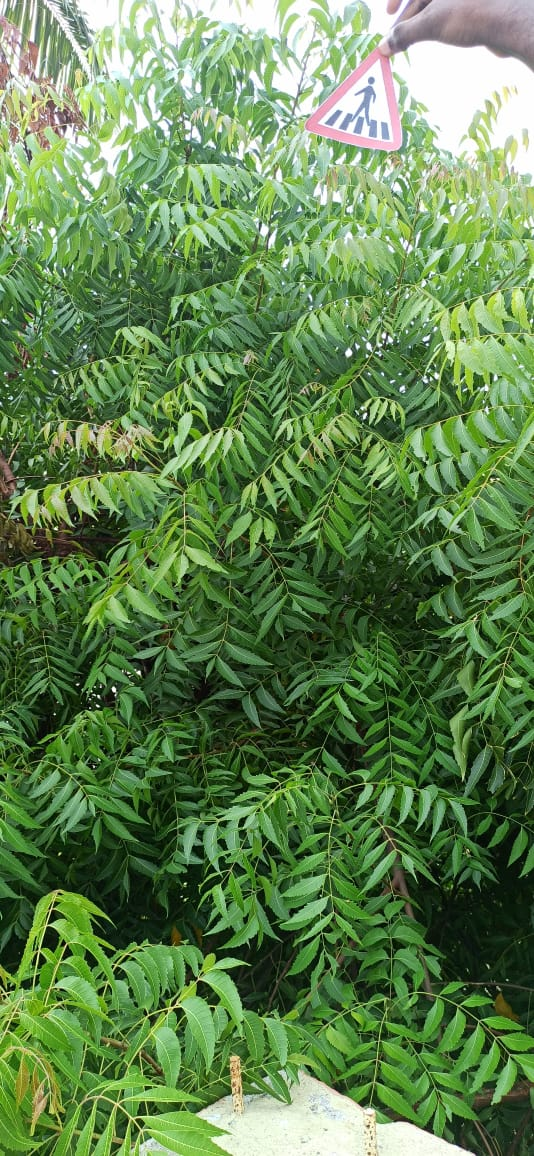PEDESTRIAN CROSSING: (304, 31, 431, 178)
